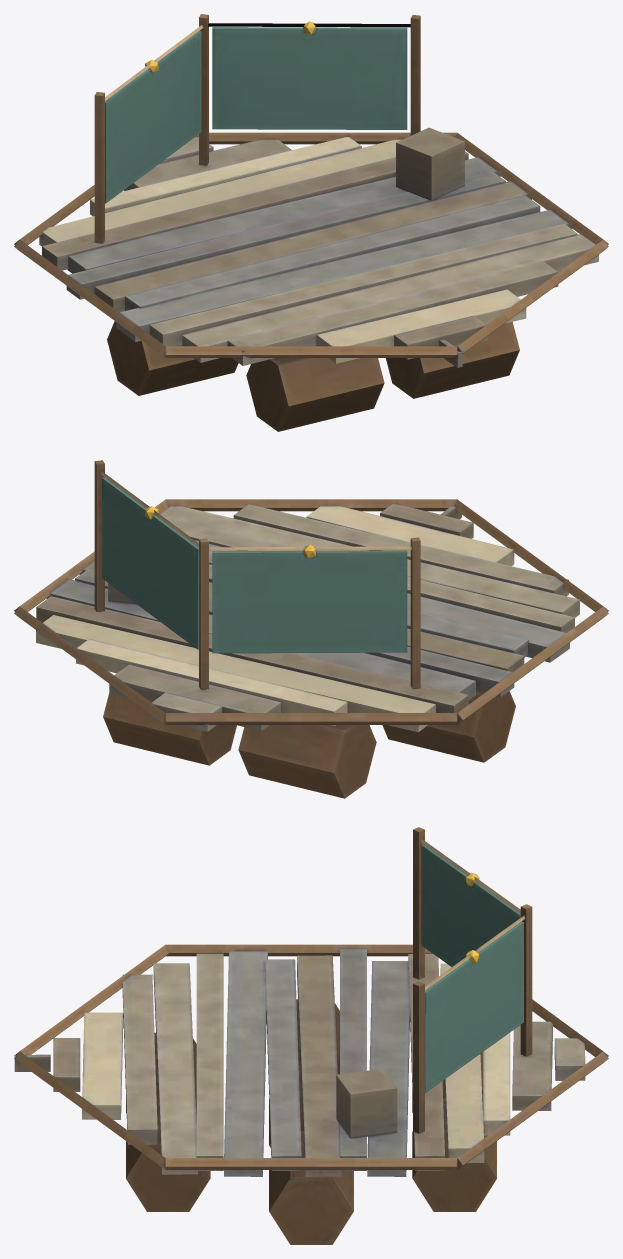
Rendered from raft-b-age1-lite.glb.
3 views of the same model, one above another, from view 1: azimuth 30°, elevation 25°; view 2: azimuth 150°, elevation 25°; view 3: azimuth 270°, elevation 25° (orthographic).
Visible parts, largest first — view 1: raft-b-age1-lite; view 2: raft-b-age1-lite; view 3: raft-b-age1-lite.
Part boxes in pixels (box(x1,y1,x2,y2)): raft-b-age1-lite: box(14, 14, 608, 431); raft-b-age1-lite: box(14, 460, 608, 798); raft-b-age1-lite: box(14, 827, 608, 1244).
Size of the model in its own units: 1.59 by 0.8426 by 1.83.
1 material, 1 textured.
